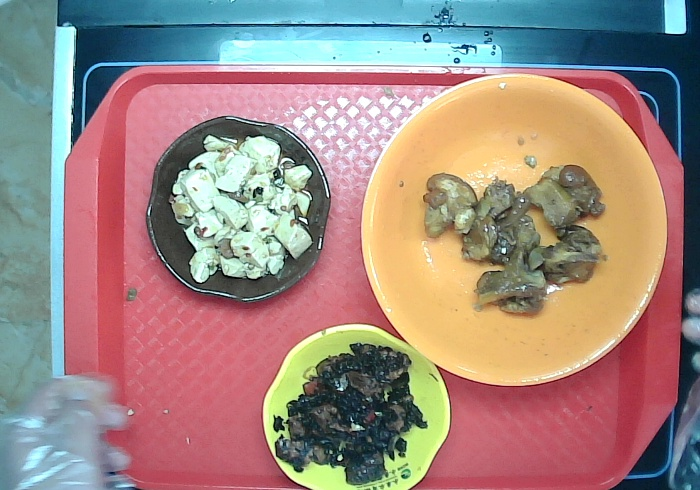YKMZ-Huang_Se_Ao_Bian_Wan: (255, 319, 453, 490)
YKMZ-Ju_Se_Tang_Wan: (352, 69, 668, 387)
YKMZ-Ka_Fei_Ao_Bian_Wan: (146, 116, 334, 309)
